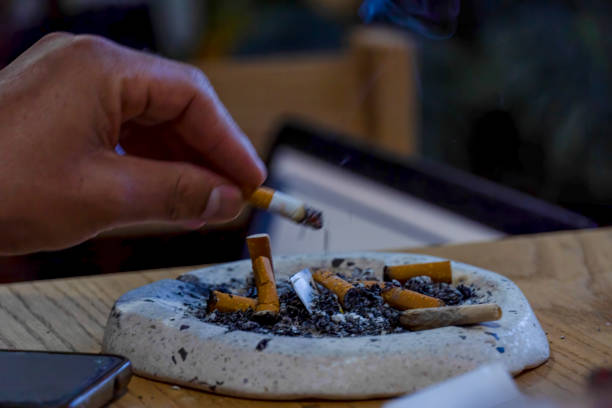cigarette: (248, 186, 325, 227), (357, 279, 445, 309), (399, 306, 503, 329), (312, 266, 359, 310), (251, 254, 281, 320), (381, 259, 454, 283), (205, 289, 258, 314), (247, 231, 274, 257)
